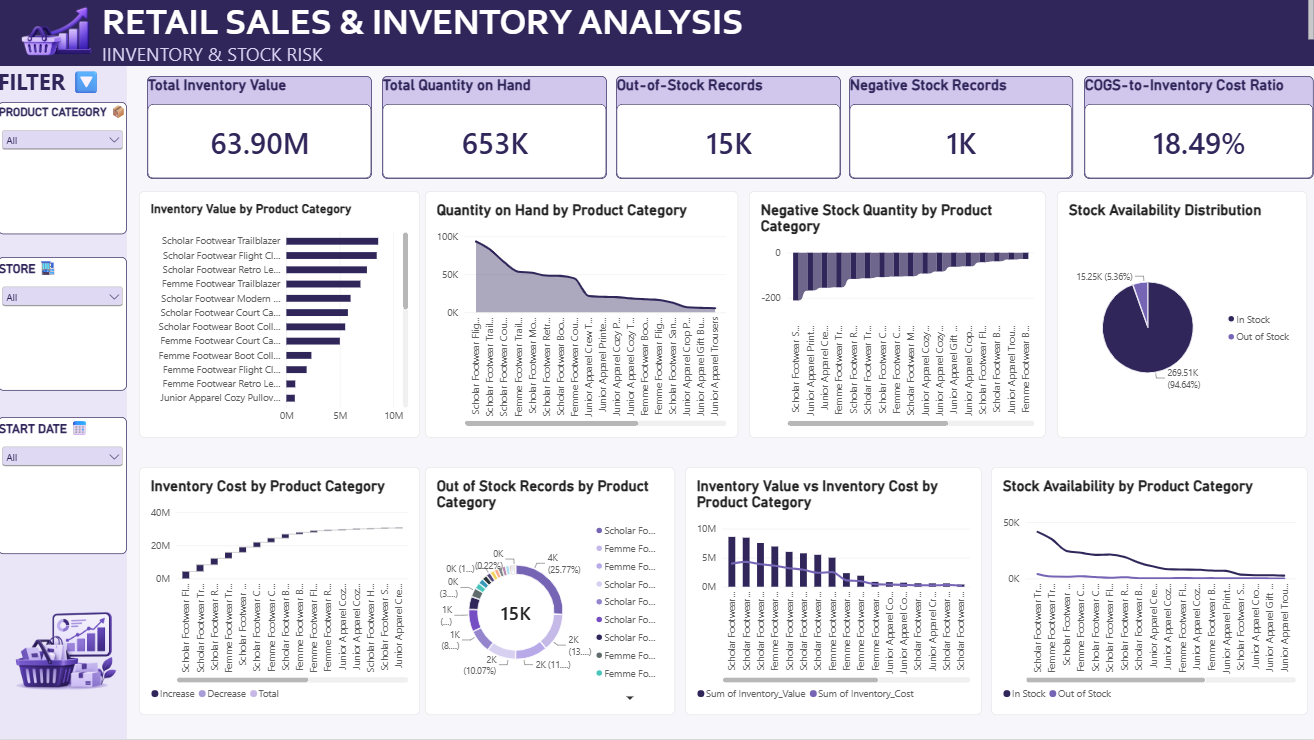

The page's visual inventory and layout, read from the dashboard file:
{"tool":"powerbi","page":{"name":"Inventory & Stock Risk ","canvas":[1920,1080],"ordinal":2},"visuals":[{"type":"cardVisual","title":"Total Inventory Value","fields":{"Data":["Sum(retail_inventory_clean.Inventory_Value)"]},"box":[216.7,111.7,328.3,150],"z":0},{"type":"cardVisual","title":"Total Quantity on Hand","fields":{"Data":["Sum(retail_inventory_clean.Qty_on_hand)"]},"box":[560,111.7,328.3,150],"z":1000},{"type":"cardVisual","title":"Out-of-Stock Records","fields":{"Data":["retail_inventory_clean.Out of Stock Records"]},"box":[901.7,111.7,328.3,150],"z":2000},{"type":"cardVisual","title":"Negative Stock Records","fields":{"Data":["retail_inventory_clean.Negative Stock Records"]},"box":[1241.7,111.7,326.7,150],"z":3000},{"type":"clusteredBarChart","title":"Inventory Value by Product Category","fields":{"Category":["retail_inventory_clean.Product_Category"],"Y":["Sum(retail_inventory_clean.Inventory_Value)"]},"box":[205,280,410,360],"z":4000},{"type":"areaChart","title":"Quantity on Hand by Product Category","fields":{"Category":["retail_inventory_clean.Product_Category"],"Y":["Sum(retail_inventory_clean.Qty_on_hand)"]},"box":[623.3,280,456.7,360],"z":5000},{"type":"pieChart","title":"Stock Availability Distribution","fields":{"Category":["retail_inventory_clean.Stock_Available"],"Y":["CountNonNull(retail_inventory_clean.Product_No)"]},"box":[1545,280,365,360],"z":6000},{"type":"ribbonChart","title":"Negative Stock Quantity by Product Category","fields":{"Category":["retail_inventory_clean.Product_Category"],"Y":["retail_inventory_clean.Negative Stock Quantity"]},"box":[1095,280,433.3,360],"z":7000},{"type":"waterfallChart","title":"Inventory Cost by Product Category","fields":{"Category":["retail_inventory_clean.Product_Category"],"Y":["Sum(retail_inventory_clean.Inventory_Cost)"]},"box":[205,683.3,410,361.7],"z":8000},{"type":"lineChart","title":"Stock Availability by Product Category","fields":{"Category":["retail_inventory_clean.Product_Category"],"Y":["CountNonNull(retail_inventory_clean.Product_No)"],"Series":["retail_inventory_clean.Stock_Available"]},"box":[1448.3,683.3,461.7,361.7],"z":9000},{"type":"cardVisual","title":"COGS-to-Inventory Cost Ratio","fields":{"Data":["retail_inventory_clean.COGS-to-Inventory Cost Ratio"]},"box":[1585,111.7,335,150],"z":10000},{"type":"donutChart","title":"Out of Stock Records by Product Category","fields":{"Category":["retail_inventory_clean.Product_Category"],"Y":["retail_inventory_clean.Out of Stock Records"]},"box":[623.3,683.3,365,361.7],"z":11000},{"type":"lineClusteredColumnComboChart","title":"Inventory Value vs Inventory Cost by Product Category","fields":{"Category":["retail_inventory_clean.Product_Category"],"Y":["Sum(retail_inventory_clean.Inventory_Value)"],"Y2":["Sum(retail_inventory_clean.Inventory_Cost)"]},"box":[1001.7,683.3,433.3,361.7],"z":12000},{"type":"shape","box":[0,0,1920,97.8],"z":13000},{"type":"textbox","box":[151.7,0,1768.3,61.7],"z":14000},{"type":"shape","box":[0,98.3,188.3,981.7],"z":15000},{"type":"slicer","title":"PRODUCT CATEGORY 📦","fields":{"Values":["retail_inventory_clean.Product_Category"]},"box":[0,150,188.3,193.3],"z":16000},{"type":"slicer","title":"STORE 🏬","fields":{"Values":["retail_inventory_clean.Store"]},"box":[0,376.7,188.3,195],"z":17000},{"type":"slicer","title":"START DATE 📅","fields":{"Values":["retail_inventory_clean.Start_Date"]},"box":[0,610,188.3,200],"z":18000},{"type":"textbox","box":[0,97.8,204.3,84.6],"z":19000},{"type":"image","box":[0,810,188.3,270],"z":20000},{"type":"image","box":[0,0,166.7,93.3],"z":21000},{"type":"textbox","box":[151.7,61.7,1356.7,50],"z":22000}]}

Visuals, with their boxes in screenshot pixels (x1, y1, x2, y2), scaled from the page's 1920x1080 canvas onto the 1314x740 screenshot:
"Total Inventory Value" cardVisual: region(148, 77, 373, 179)
"Total Quantity on Hand" cardVisual: region(383, 77, 608, 179)
"Out-of-Stock Records" cardVisual: region(617, 77, 842, 179)
"Negative Stock Records" cardVisual: region(850, 77, 1073, 179)
"Inventory Value by Product Category" clusteredBarChart: region(140, 192, 421, 439)
"Quantity on Hand by Product Category" areaChart: region(427, 192, 739, 439)
"Stock Availability Distribution" pieChart: region(1057, 192, 1307, 439)
"Negative Stock Quantity by Product Category" ribbonChart: region(749, 192, 1046, 439)
"Inventory Cost by Product Category" waterfallChart: region(140, 468, 421, 716)
"Stock Availability by Product Category" lineChart: region(991, 468, 1307, 716)
"COGS-to-Inventory Cost Ratio" cardVisual: region(1085, 77, 1313, 179)
"Out of Stock Records by Product Category" donutChart: region(427, 468, 676, 716)
"Inventory Value vs Inventory Cost by Product Category" lineClusteredColumnComboChart: region(686, 468, 982, 716)
shape: region(0, 0, 1313, 67)
textbox: region(104, 0, 1313, 42)
shape: region(0, 67, 129, 739)
"PRODUCT CATEGORY 📦" slicer: region(0, 103, 129, 235)
"STORE 🏬" slicer: region(0, 258, 129, 392)
"START DATE 📅" slicer: region(0, 418, 129, 555)
textbox: region(0, 67, 140, 125)
image: region(0, 555, 129, 739)
image: region(0, 0, 114, 64)
textbox: region(104, 42, 1032, 77)
